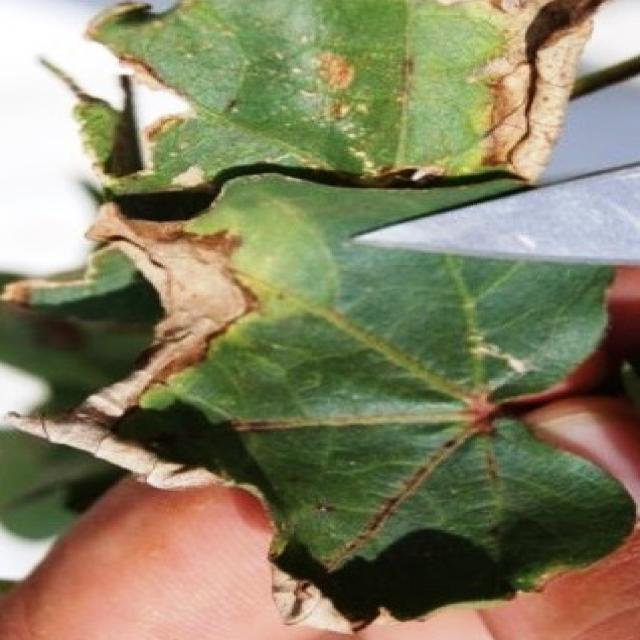Fusarium Wilt: (59, 145, 276, 448)
